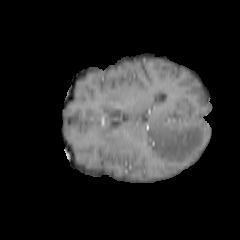glioma: (145, 114, 206, 162)
